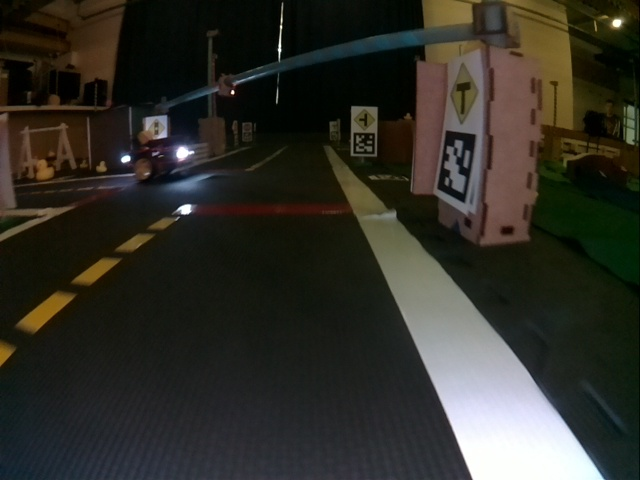Duckie: (35, 161, 54, 180), (96, 161, 107, 172)
Duckiebot: (121, 143, 192, 181)
Intersection sign: (353, 106, 376, 128)
QR code: (436, 132, 478, 211), (350, 137, 377, 156)
Signal sign: (146, 115, 168, 138)
Traffic light: (219, 73, 236, 96)
